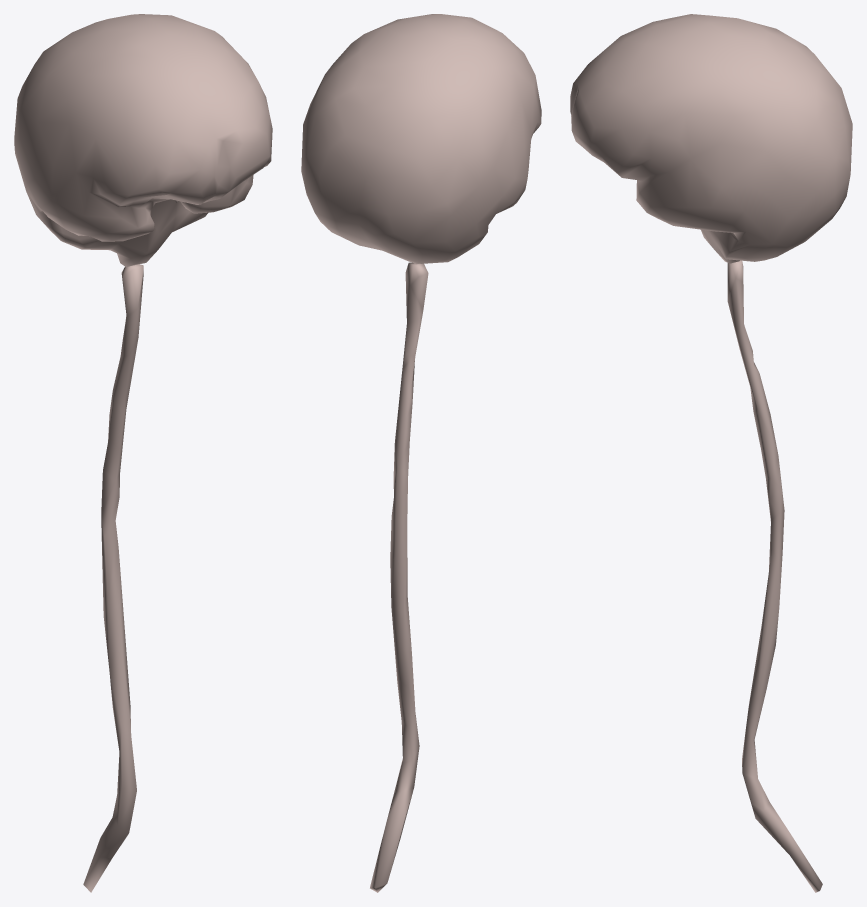
The model's file is pediatric_child_5y_male.nervous.LOD2.glb.
3 views of the same model, side by side, from view 1: azimuth 30°, elevation 25°; view 2: azimuth 150°, elevation 25°; view 3: azimuth 270°, elevation 25° (orthographic). The views are drawn at different scales.
Visible parts, largest first — view 1: PEDIATRIC.CHILD_5Y.MALE.NERVOUS.BRAIN, PEDIATRIC.CHILD_5Y.MALE.NERVOUS.SPINAL_CORD; view 2: PEDIATRIC.CHILD_5Y.MALE.NERVOUS.BRAIN, PEDIATRIC.CHILD_5Y.MALE.NERVOUS.SPINAL_CORD; view 3: PEDIATRIC.CHILD_5Y.MALE.NERVOUS.BRAIN, PEDIATRIC.CHILD_5Y.MALE.NERVOUS.SPINAL_CORD.
Boxes of the visible parts, x1,y1,x2,y2 form: PEDIATRIC.CHILD_5Y.MALE.NERVOUS.BRAIN: (14,14,272,267); PEDIATRIC.CHILD_5Y.MALE.NERVOUS.SPINAL_CORD: (83,264,143,892); PEDIATRIC.CHILD_5Y.MALE.NERVOUS.BRAIN: (301,14,541,264); PEDIATRIC.CHILD_5Y.MALE.NERVOUS.SPINAL_CORD: (370,262,428,892); PEDIATRIC.CHILD_5Y.MALE.NERVOUS.BRAIN: (570,14,852,263); PEDIATRIC.CHILD_5Y.MALE.NERVOUS.SPINAL_CORD: (727,260,822,892).
Size of the model in its own units: 0.1289 by 0.5311 by 0.1567.
